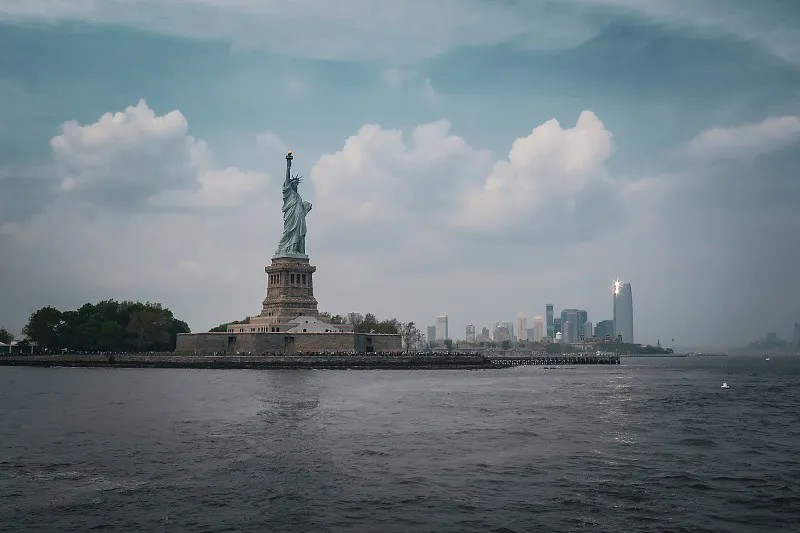SL: (260, 149, 319, 316)
